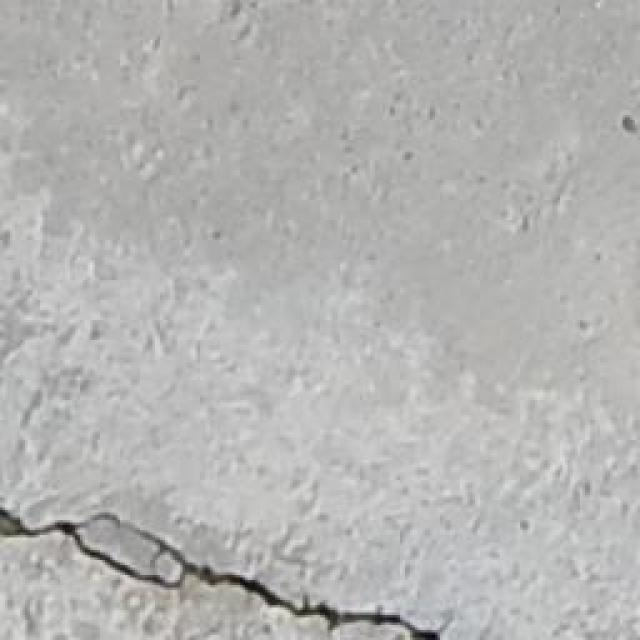concrete-crack: (0, 497, 464, 640)
